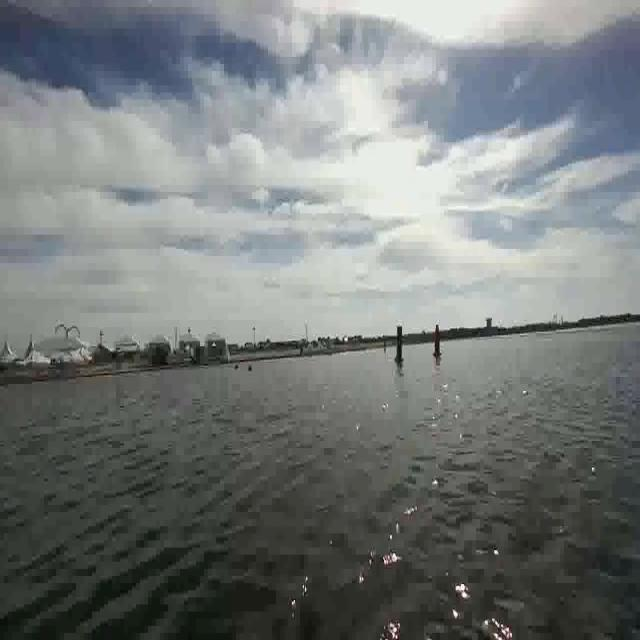green-column-buoy: (394, 324, 405, 364)
red-column-buoy: (431, 324, 441, 359)
